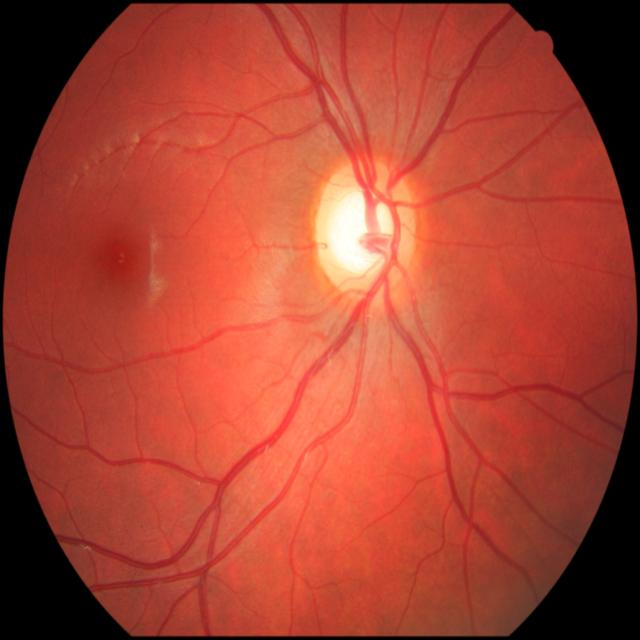OC: (329, 192, 395, 276)
OD: (316, 161, 415, 300)
